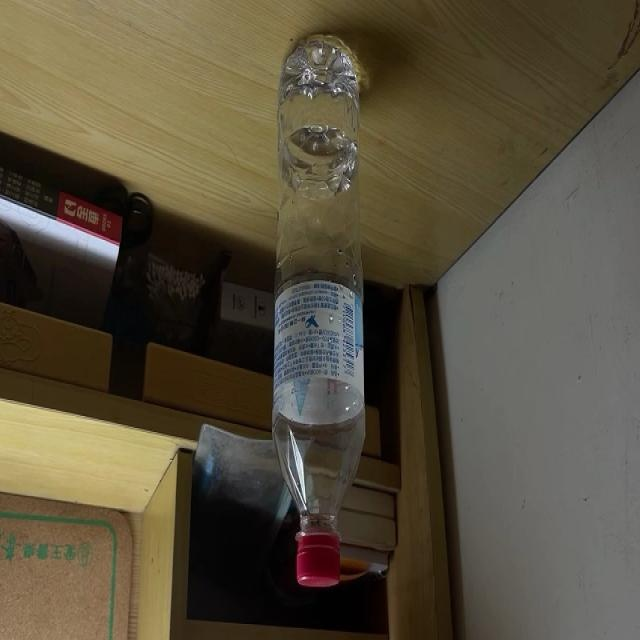Water: (274, 34, 366, 588)
